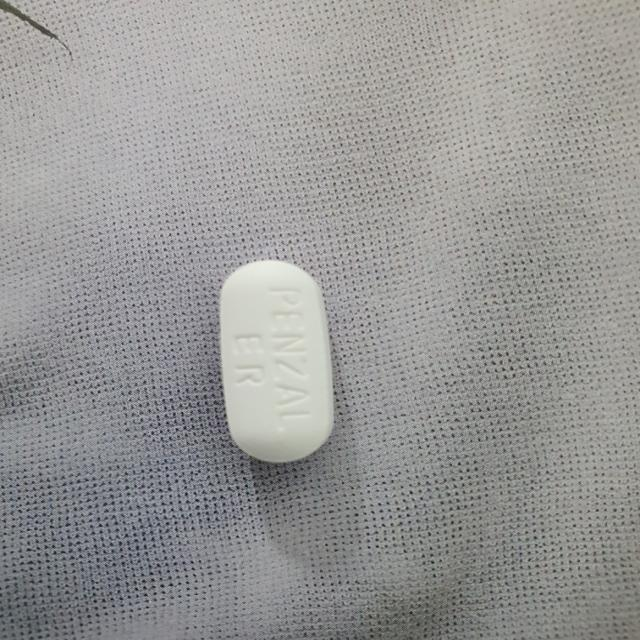pill: (197, 242, 354, 478)
